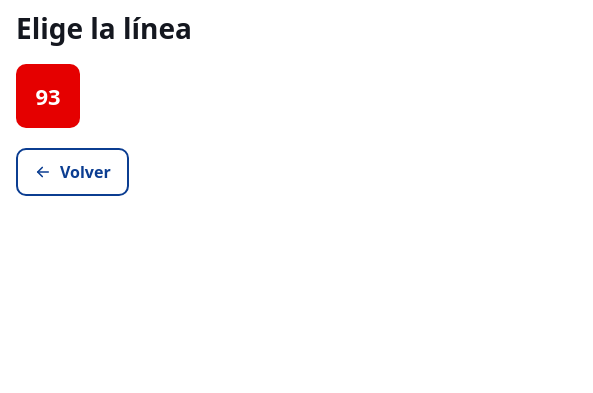
it: ServicePicker › [driver_ui.AC-02] with a 409 refreshes the list and announces "Esa salida ya la lleva otro conductor"
What coordinates should you click on to do the following:
click the button named "Línea 93"
I would click on:
 (48, 96)
Its box is [16,64,80,128].
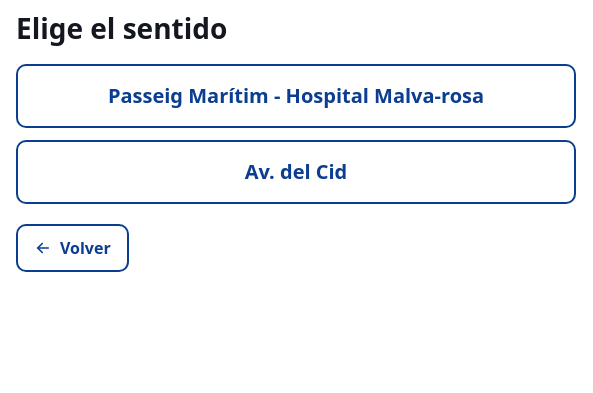
What coordinates should you click on to do the following:
click the button "Passeig Marítim - Hospital Malva-rosa"
I would click on:
 (296, 96)
Its box is [16,64,576,128].
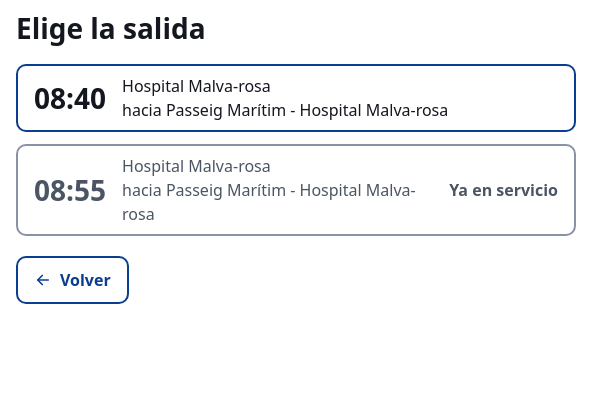
What coordinates should you click on to do the following:
click the button "08:40"
I would click on:
 (296, 98)
Its box is [16,64,576,132].
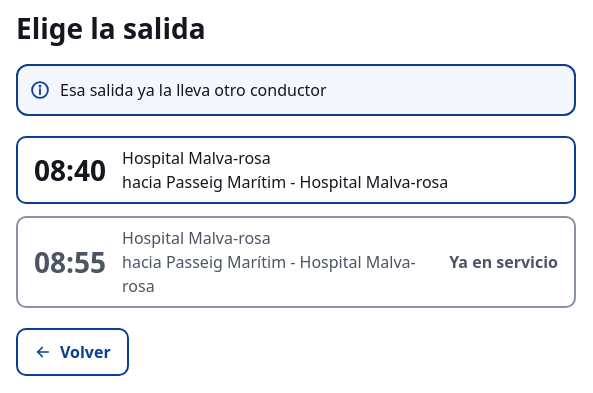
Now the text "Esa salida ya la lleva otro conductor" is shown, box [60,78,327,102]
